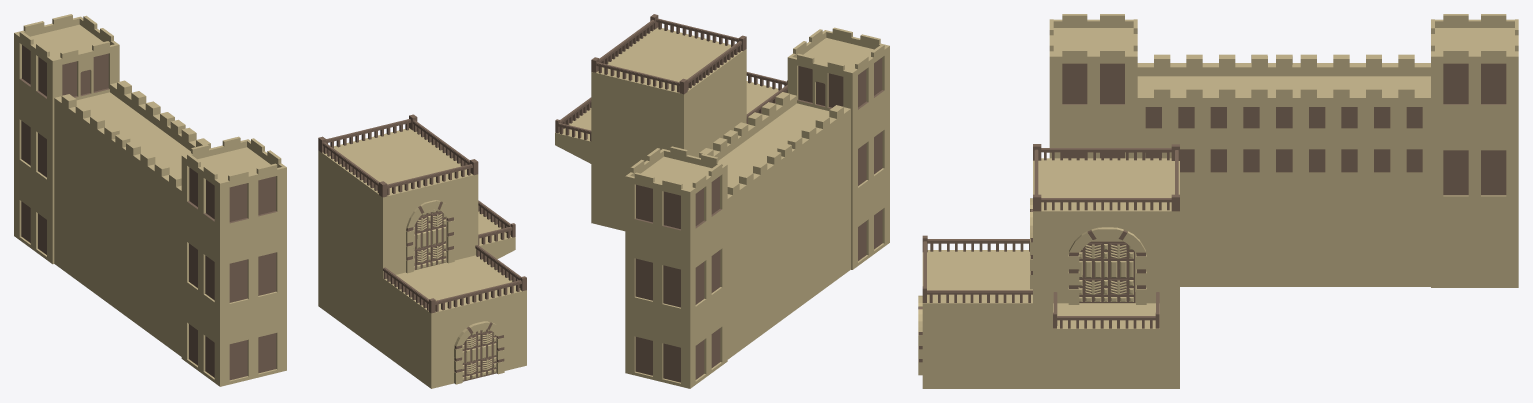
Rendered from house_and_wall.fbx.
3 renders of one model, left to right at view 1: azimuth 30°, elevation 25°; view 2: azimuth 150°, elevation 25°; view 3: azimuth 270°, elevation 25°, orthographic. The views are drawn at different scales.
Visible parts, largest first — view 1: surr, house; view 2: surr, house; view 3: surr, house.
Boxes of the visible parts, box(x1,y1,x2,y2) form: surr: box(14, 14, 286, 386); house: box(318, 114, 526, 388); surr: box(625, 27, 889, 388); house: box(555, 14, 787, 231); surr: box(1049, 14, 1518, 287); house: box(918, 144, 1179, 388).
Bounding box in the file's own units: 3653 × 2446 × 5621.
